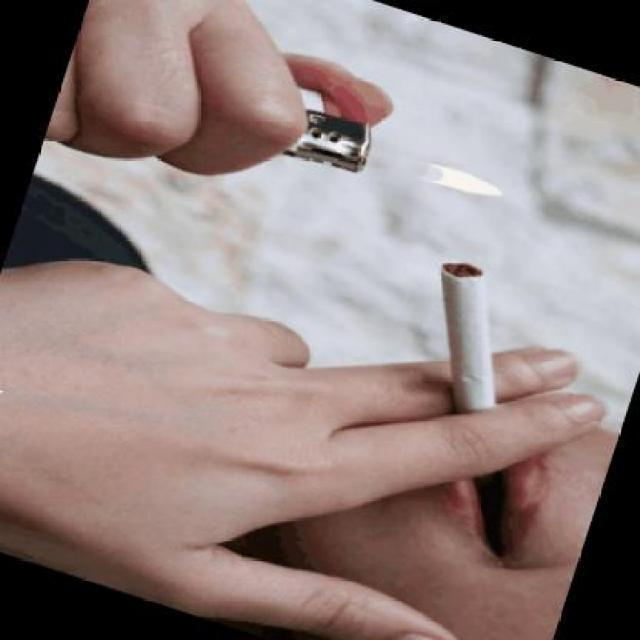rokok: (395, 252, 537, 424)
